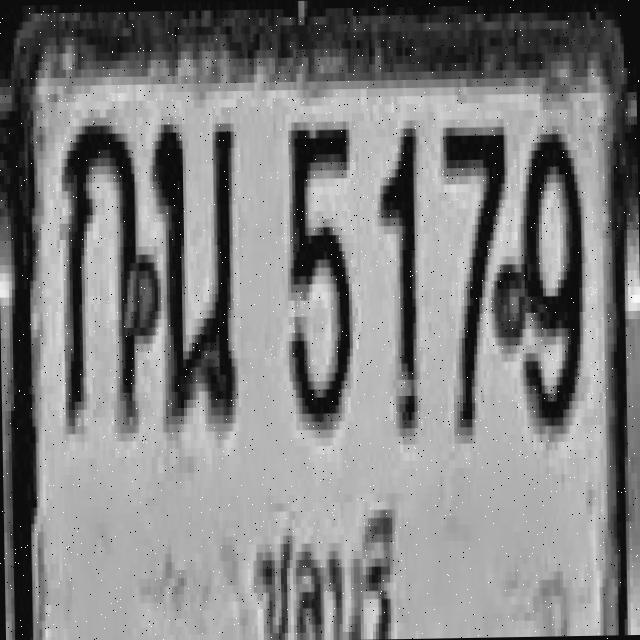1: (376, 124, 421, 432)
10GorGai: (58, 113, 152, 430)
34NorNu: (150, 115, 238, 432)
5: (284, 121, 354, 430)
7: (439, 118, 508, 436)
9: (506, 125, 584, 434)
Chonburi: (252, 498, 402, 640)
